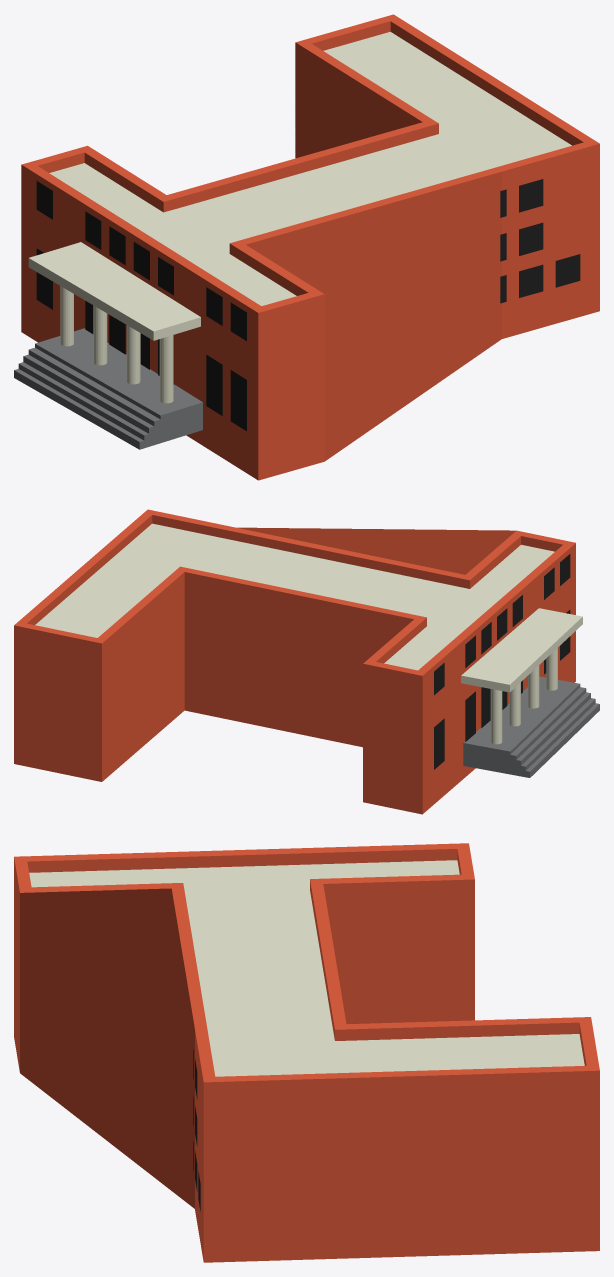
Rendered from Adams Hall.fbx.
The picture shows the model from 3 angles, top to bottom: view 1: azimuth 30°, elevation 25°; view 2: azimuth 150°, elevation 25°; view 3: azimuth 270°, elevation 25°; orthographic projection. The views are drawn at different scales.
Visible parts, largest first — view 1: Adams Hall; view 2: Adams Hall; view 3: Adams Hall.
Part boxes in pixels (bbox=[...]): Adams Hall: bbox=[14, 14, 599, 480]; Adams Hall: bbox=[14, 509, 599, 814]; Adams Hall: bbox=[14, 843, 599, 1262].
Size of the model in its own units: 470 by 144 by 423.
